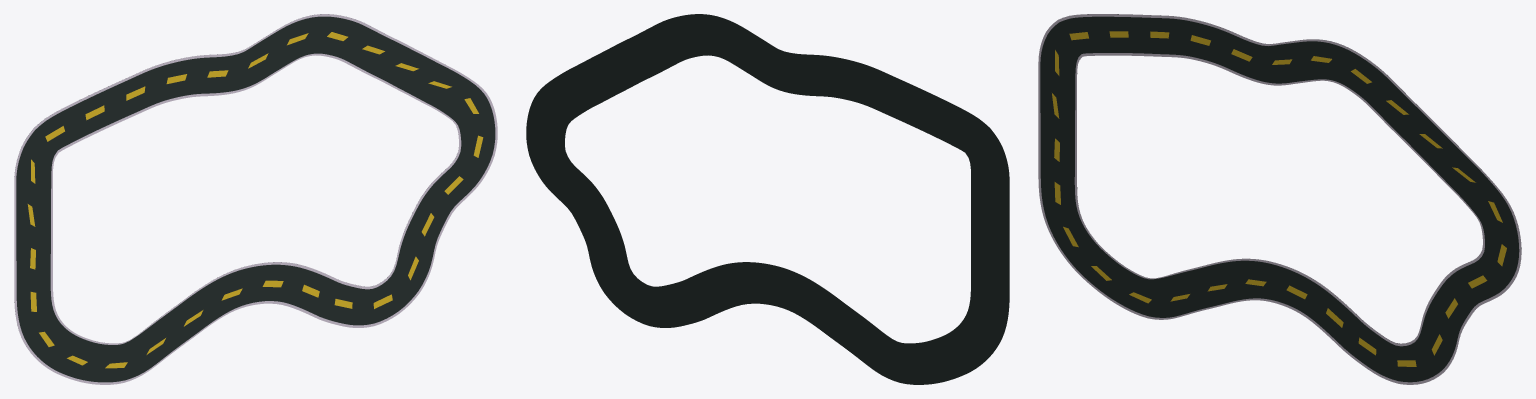
Rendered from track.obj.
3 renders of one model, left to right at view 1: azimuth 30°, elevation 25°; view 2: azimuth 150°, elevation 25°; view 3: azimuth 330°, elevation 25°, orthographic.
Bounding box in the file's own units: 7.61 × 4.91 × 0.002.
